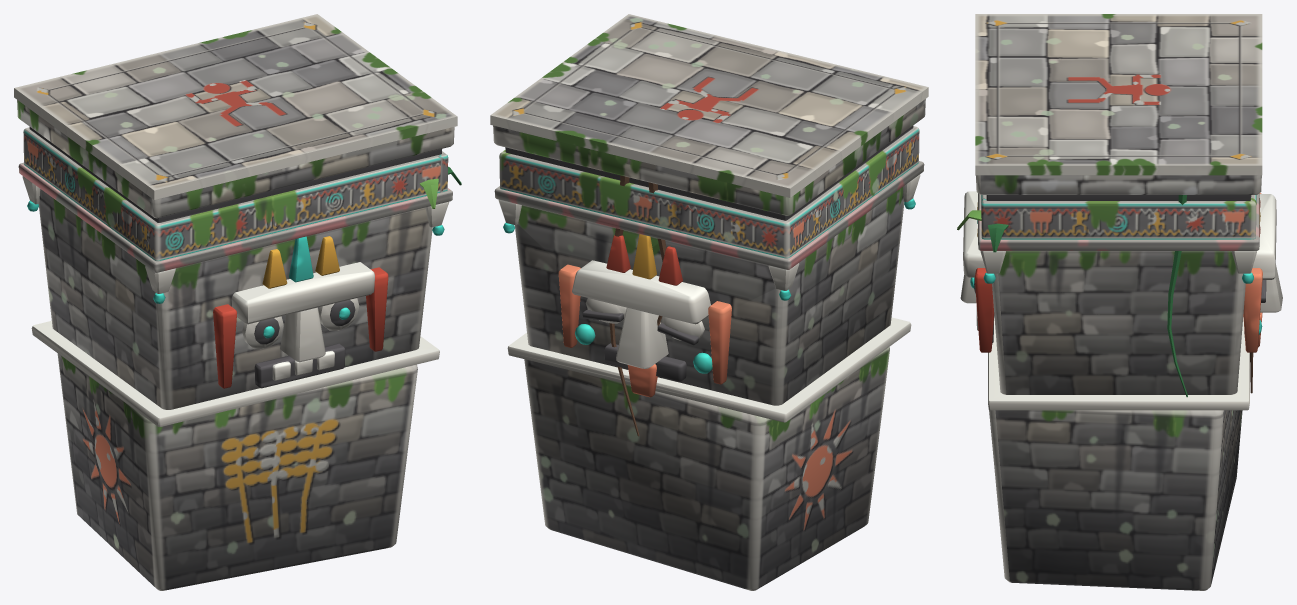
File: mid_S.glb
The picture shows the model from 3 angles, left to right: view 1: azimuth 30°, elevation 25°; view 2: azimuth 150°, elevation 25°; view 3: azimuth 270°, elevation 25°; orthographic projection. The views are drawn at different scales.
Parts seen in each view (by area): view 1: mid_S.001; view 2: mid_S.001; view 3: mid_S.001.
Boxes of the visible parts, x1=… form: mid_S.001: x1=14, y1=14, x2=461, y2=590; mid_S.001: x1=490, y1=14, x2=928, y2=590; mid_S.001: x1=957, y1=14, x2=1282, y2=590.
Bounding box in the file's own units: 10.44 × 13.6 × 9.09.
Materials: 1 (1 with a texture image).
